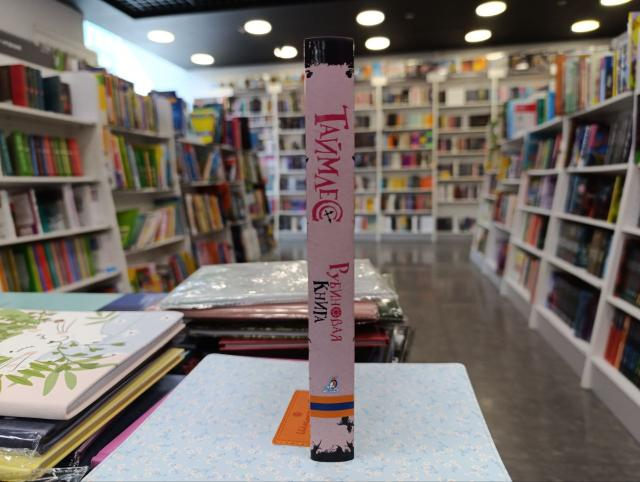book-s-spine: (303, 37, 355, 463)
